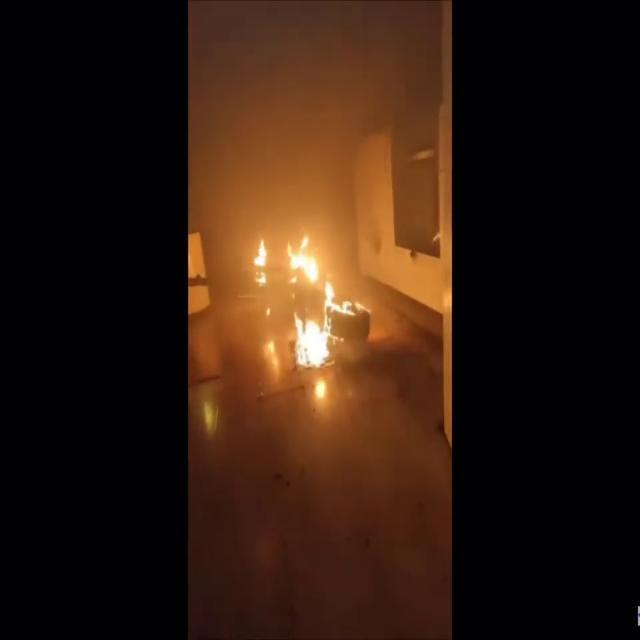Fire: (258, 228, 350, 376)
Smoke: (188, 0, 448, 251)
